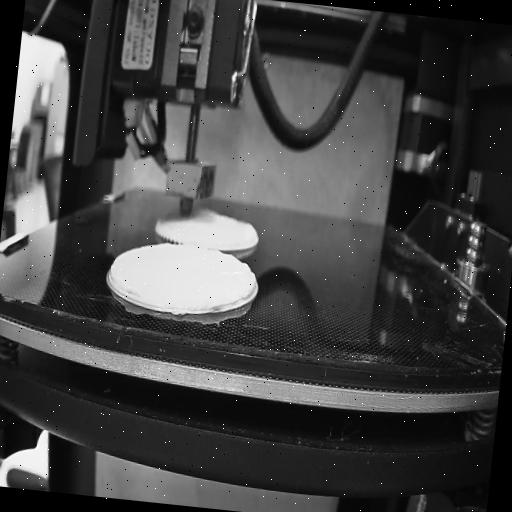over_extrusion: (245, 276, 258, 304)
